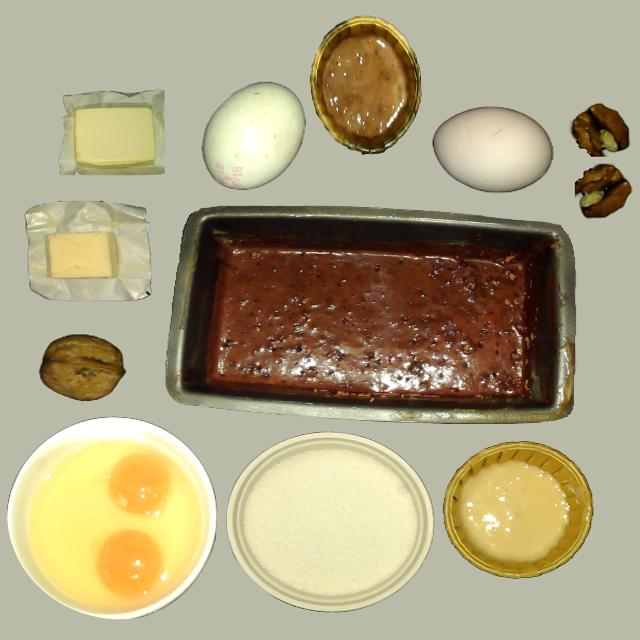Egg: (96, 530, 164, 596), (108, 454, 172, 515)
Sugar: (226, 432, 432, 612)
Walnut: (39, 334, 124, 401)
